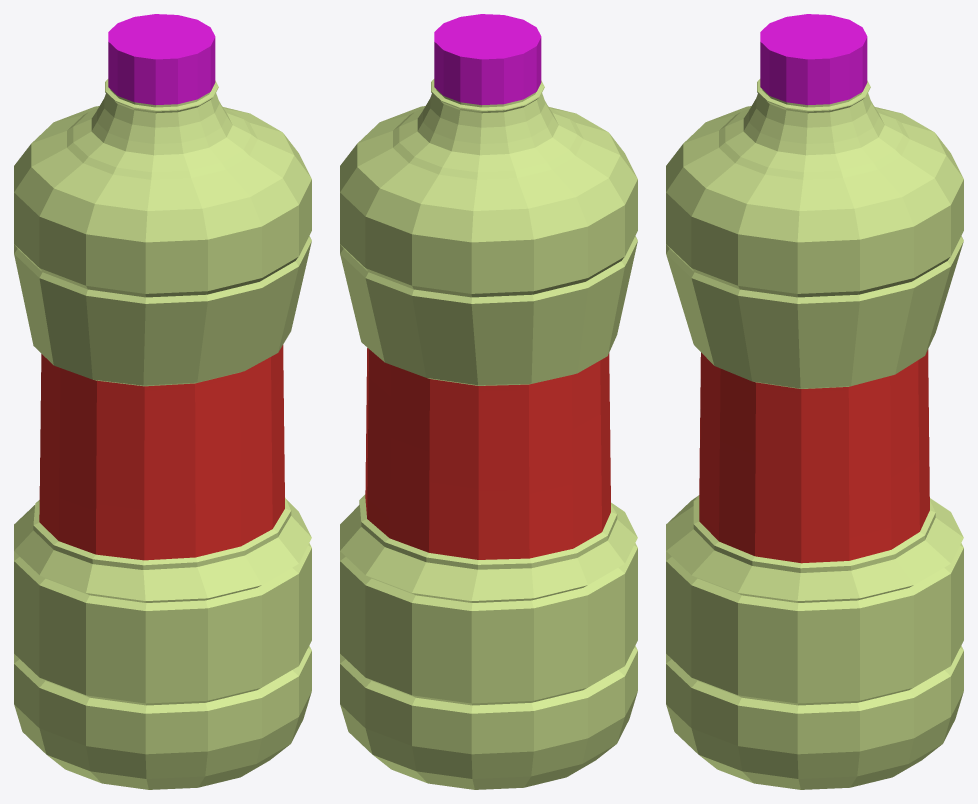
File: plastic_bottle.fbx
3 views of the same model, side by side, from view 1: azimuth 30°, elevation 25°; view 2: azimuth 150°, elevation 25°; view 3: azimuth 270°, elevation 25° (orthographic).
Visible parts, largest first — view 1: Bottle, Cap; view 2: Bottle, Cap; view 3: Bottle, Cap.
Boxes of the visible parts, x1,y1,x2,y2 form: Bottle: (14, 79, 311, 789); Cap: (108, 14, 215, 105); Bottle: (340, 79, 637, 789); Cap: (434, 14, 541, 105); Bottle: (666, 79, 963, 789); Cap: (760, 14, 867, 105).
Size of the model in its own units: 151 by 396 by 150.
